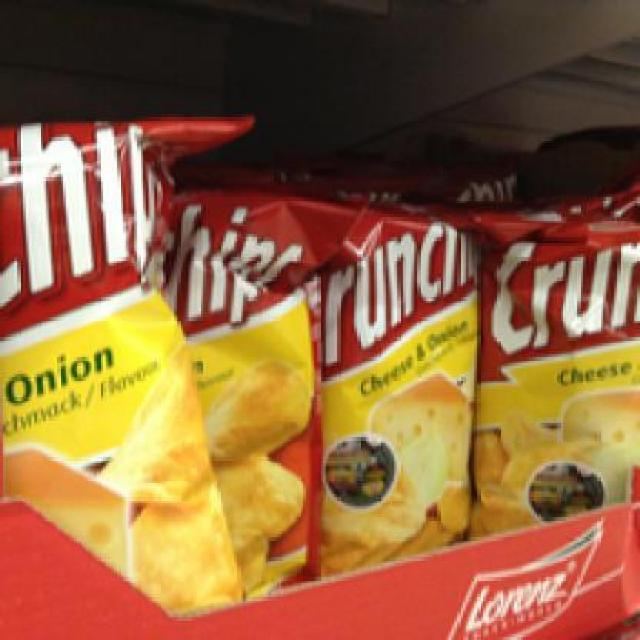Chips: (0, 114, 263, 612), (305, 208, 478, 558), (166, 185, 312, 586), (472, 208, 638, 542)
